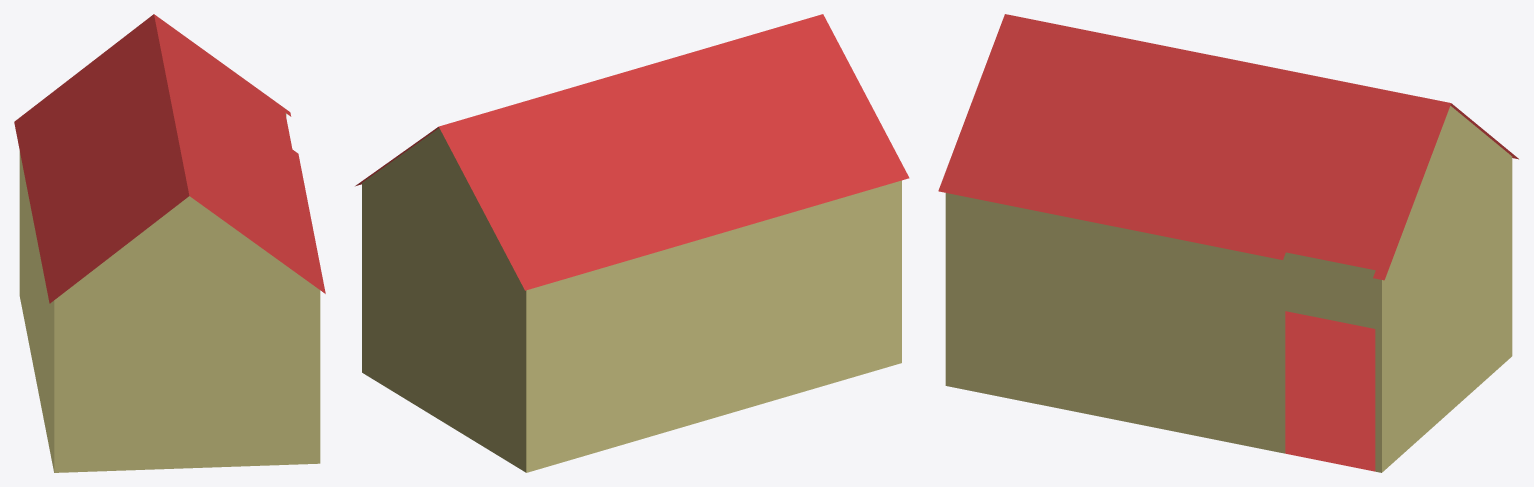
The picture shows the model from 3 angles, left to right: view 1: azimuth 30°, elevation 25°; view 2: azimuth 150°, elevation 25°; view 3: azimuth 270°, elevation 25°; orthographic projection. The views are drawn at different scales.
Size of the model in its own units: 21.85 by 25.56 by 15.2.
